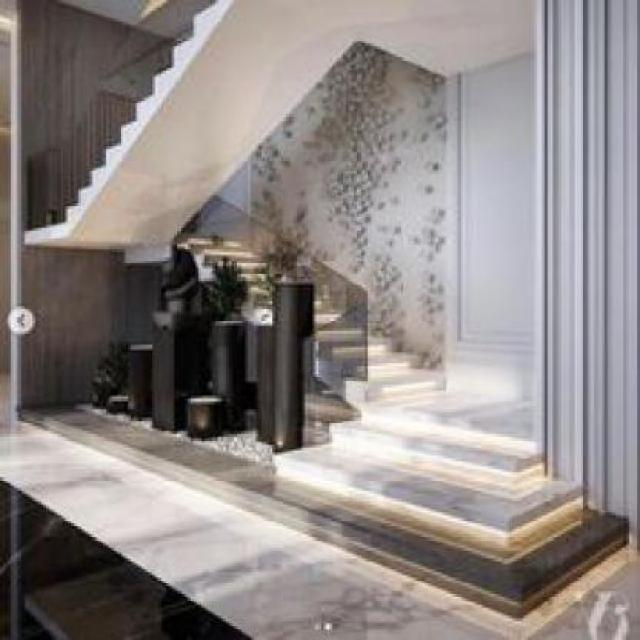stair: (255, 237, 633, 581), (24, 6, 270, 243)
